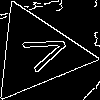V: (12, 28, 72, 77)
